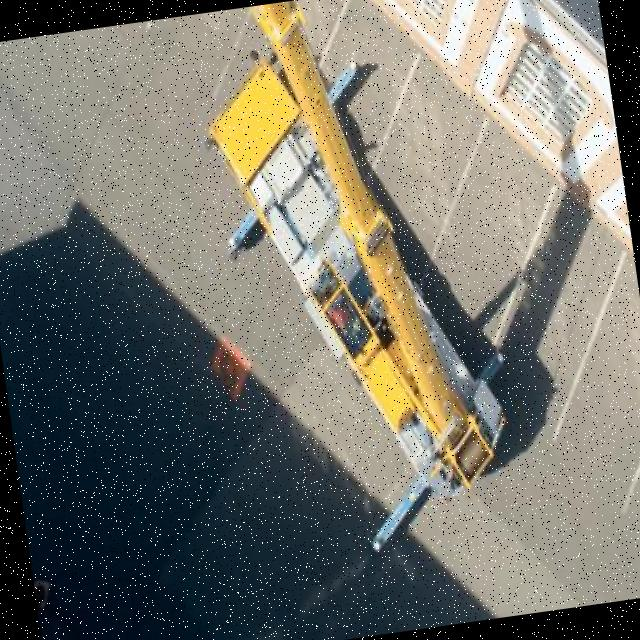Mobile Crane: (188, 0, 527, 569)
